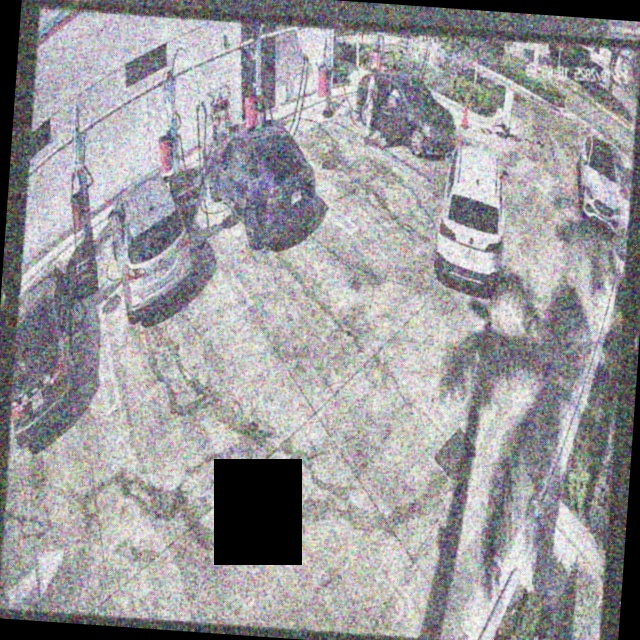Car: (198, 112, 319, 248), (104, 161, 208, 314), (352, 61, 456, 172), (431, 143, 510, 289)
